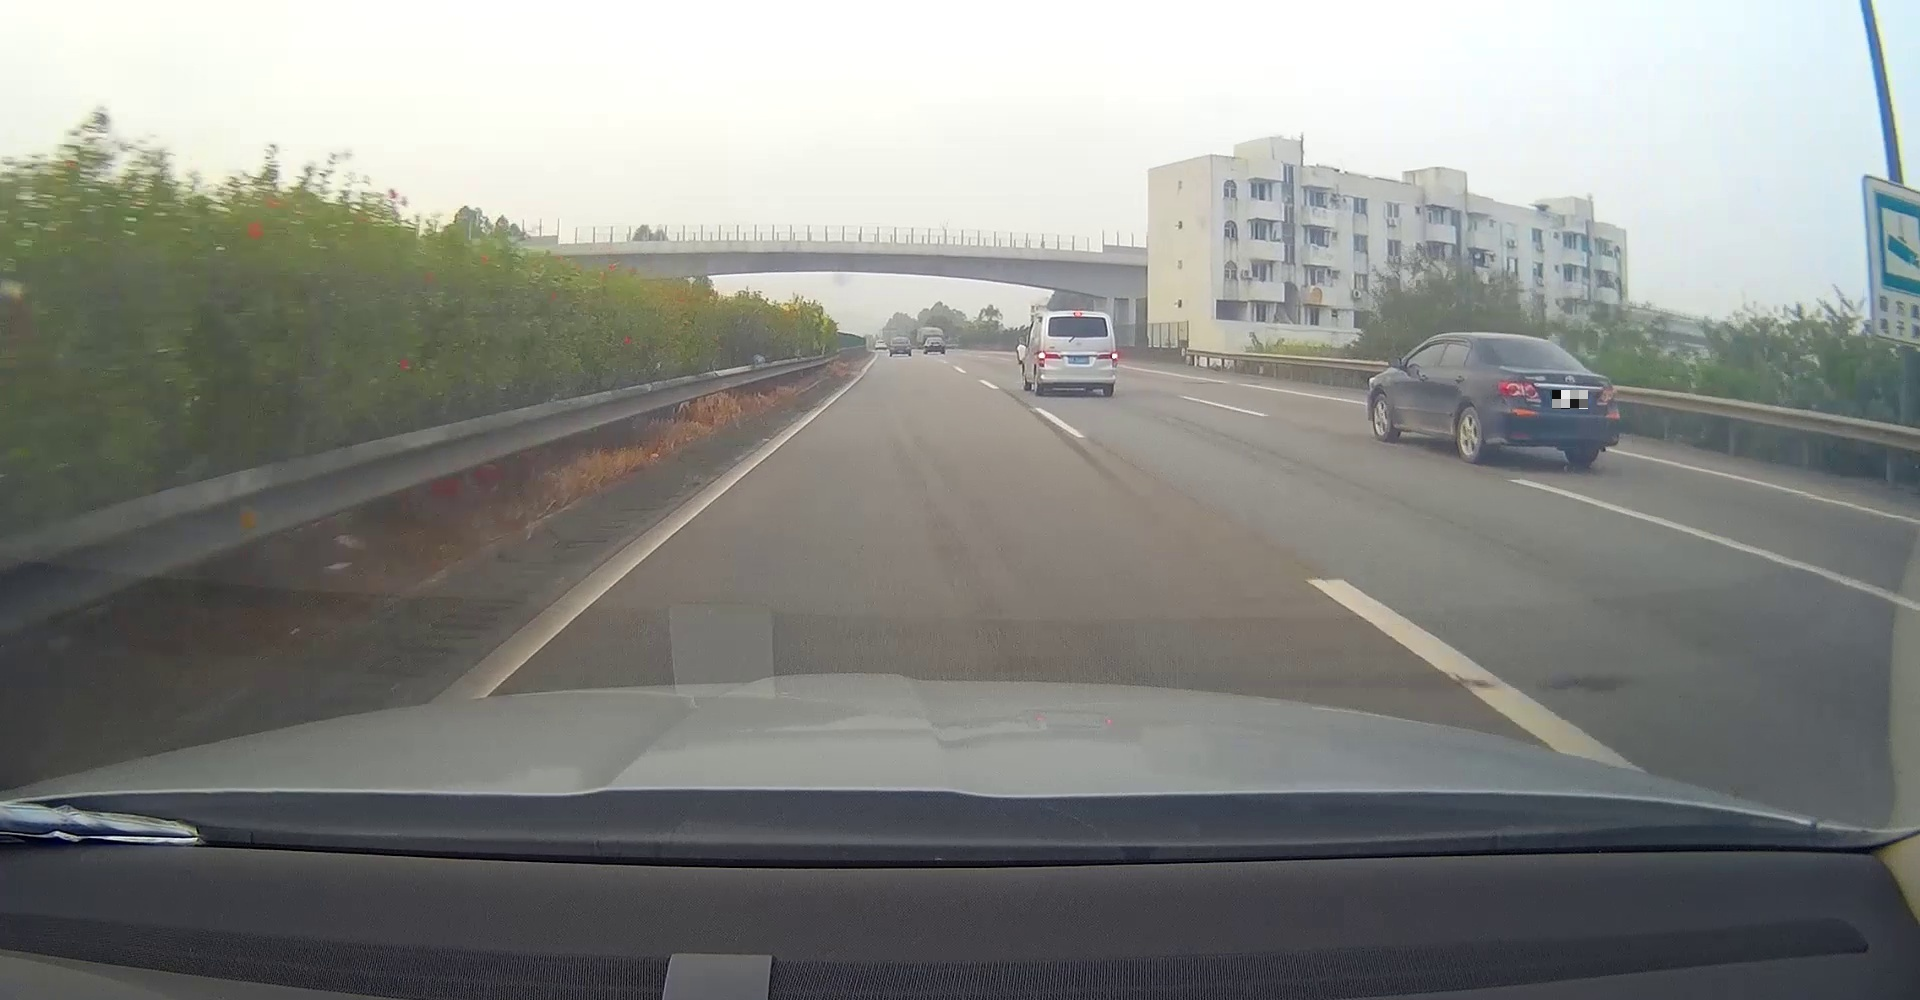L_light: (1498, 379, 1542, 404), (1037, 352, 1062, 368)
R_light: (1596, 386, 1617, 405), (1096, 352, 1117, 367)
T_light: (1517, 338, 1531, 341), (1073, 312, 1082, 317)
day-brake: (1034, 310, 1119, 396)
day-no: (1481, 332, 1620, 464)
plate_1: (1552, 390, 1589, 409)
